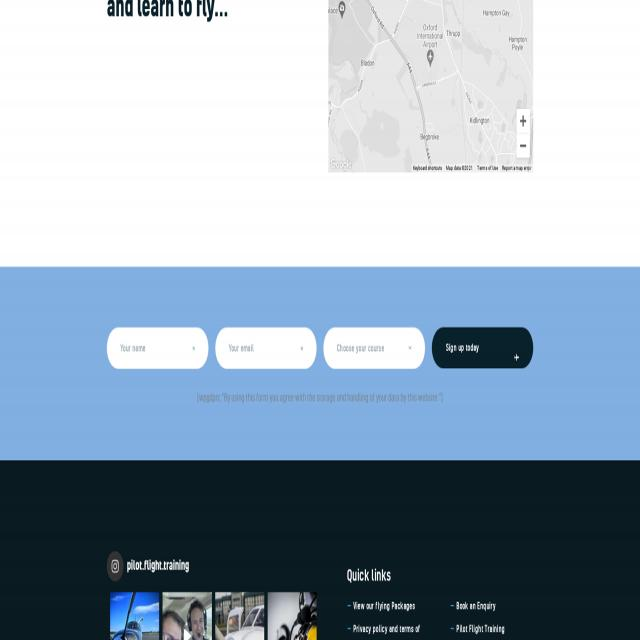button: (432, 327, 533, 369), (516, 110, 531, 132), (330, 157, 352, 172), (517, 135, 530, 158), (111, 559, 119, 573)
field: (107, 327, 209, 369), (215, 327, 317, 369), (323, 327, 425, 369)
